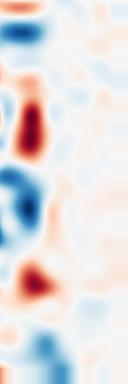filament: (10, 96, 55, 169), (12, 258, 63, 304)
